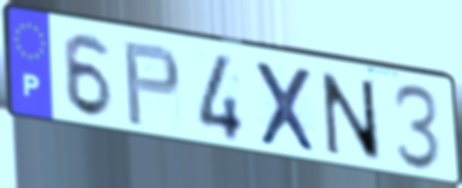3: (391, 82, 443, 173)
4: (196, 53, 246, 145)
6: (61, 32, 115, 121)
N: (318, 69, 385, 165)
P: (121, 39, 184, 129)
X: (251, 57, 321, 157)
